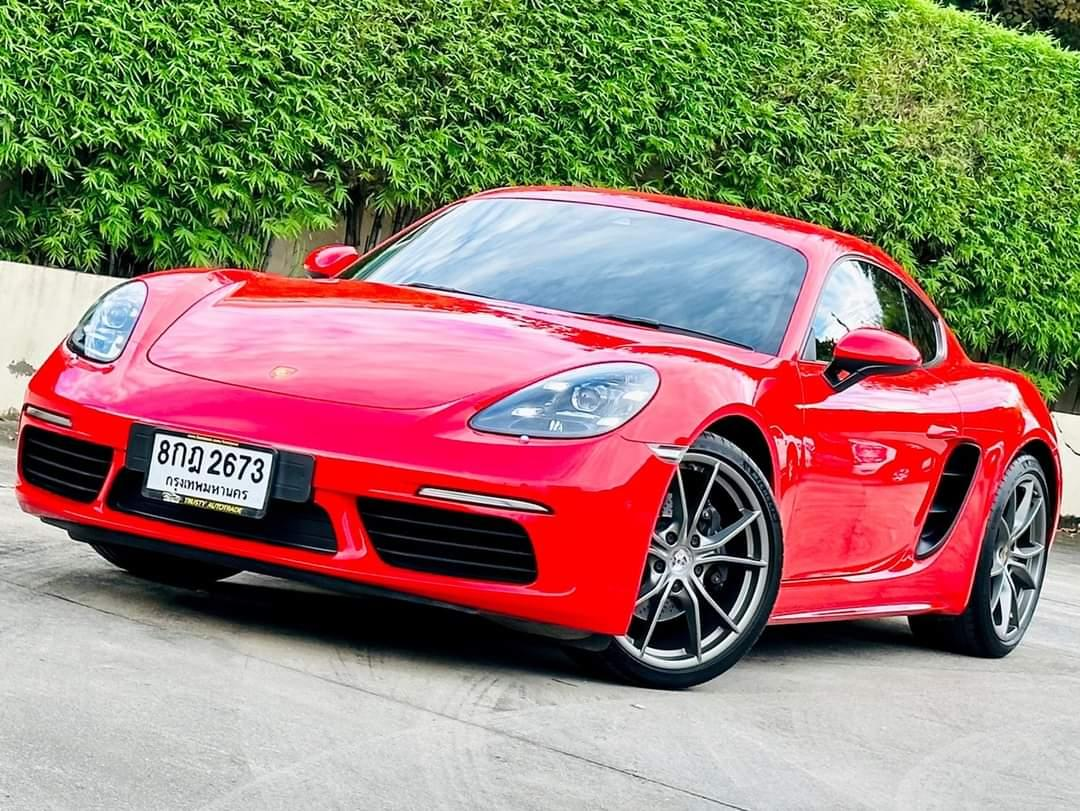license-plate: (135, 424, 284, 522)
